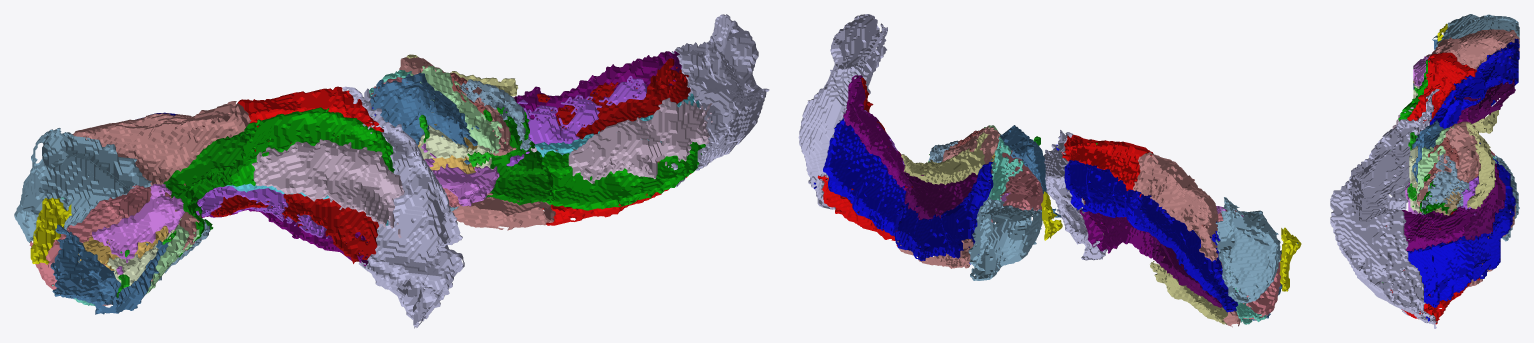
File: hippoAmygLabels.glb
3 renders of one model, left to right at view 1: azimuth 30°, elevation 25°; view 2: azimuth 150°, elevation 25°; view 3: azimuth 270°, elevation 25°, orthographic. The views are drawn at different scales.
Parts seen in each view (by area): view 1: lh - HP_tail, rh - HP_tail, lh - fimbria, lh - Lateral-nucleus, lh - CA1-head, rh - fimbria, lh - CA3-body, rh - CA3-body, lh - Corticoamygdaloid-transitio, rh - Corticoamygdaloid-transitio, lh - molecular_layer_HP-body, rh - CA1-head (+22 smaller); view 2: rh - HP_tail, rh - subiculum-body, lh - Lateral-nucleus, lh - CA1-head, rh - subiculum-head, rh - Lateral-nucleus, lh - subiculum-head, lh - subiculum-body, lh - CA1-body, lh - HP_tail, rh - presubiculum-body, rh - presubiculum-head (+13 smaller); view 3: rh - HP_tail, lh - HP_tail, rh - subiculum-body, rh - presubiculum-body, rh - subiculum-head, lh - CA1-body, lh - CA1-head, rh - CA1-head, lh - subiculum-body, lh - subiculum-head, rh - presubiculum-head, rh - GC-ML-DG-head (+16 smaller).
Part boxes in pixels (bbox=[...]): lh - HP_tail: bbox=[342, 86, 464, 328]; rh - HP_tail: bbox=[668, 14, 769, 188]; lh - fimbria: bbox=[251, 139, 404, 237]; lh - Lateral-nucleus: bbox=[14, 128, 151, 242]; lh - CA1-head: bbox=[72, 101, 251, 305]; rh - fimbria: bbox=[531, 97, 712, 183]; lh - CA3-body: bbox=[228, 107, 394, 186]; rh - CA3-body: bbox=[541, 142, 705, 210]; lh - Corticoamygdaloid-transitio: bbox=[50, 224, 168, 314]; rh - Corticoamygdaloid-transitio: bbox=[370, 73, 479, 164]; lh - molecular_layer_HP-body: bbox=[211, 113, 378, 263]; rh - CA1-head: bbox=[399, 57, 555, 230]; rh - HP_tail: bbox=[798, 14, 887, 209]; rh - subiculum-body: bbox=[813, 118, 906, 235]; lh - Lateral-nucleus: bbox=[1215, 197, 1280, 303]; lh - CA1-head: bbox=[1133, 152, 1240, 327]; rh - subiculum-head: bbox=[893, 162, 993, 264]; rh - Lateral-nucleus: bbox=[968, 196, 1042, 280]; lh - subiculum-head: bbox=[1129, 190, 1238, 312]; lh - subiculum-body: bbox=[1056, 144, 1145, 231]; lh - CA1-body: bbox=[1061, 134, 1152, 197]; lh - HP_tail: bbox=[1043, 130, 1107, 260]; rh - presubiculum-body: bbox=[843, 75, 908, 190]; rh - presubiculum-head: bbox=[900, 165, 977, 219]; rh - HP_tail: bbox=[1330, 175, 1436, 328]; lh - HP_tail: bbox=[1347, 89, 1439, 209]; rh - subiculum-body: bbox=[1407, 236, 1474, 321]; rh - presubiculum-body: bbox=[1402, 206, 1472, 251]; rh - subiculum-head: bbox=[1459, 143, 1515, 281]; lh - CA1-body: bbox=[1407, 52, 1476, 122]; lh - CA1-head: bbox=[1434, 29, 1519, 69]; rh - CA1-head: bbox=[1417, 121, 1515, 287]; lh - subiculum-body: bbox=[1428, 70, 1485, 128]; lh - subiculum-head: bbox=[1465, 35, 1519, 105]; rh - presubiculum-head: bbox=[1459, 163, 1505, 240]; rh - GC-ML-DG-head: bbox=[1421, 153, 1470, 214].
Bounding box in the file's own units: 95.33 × 32.33 × 32.
